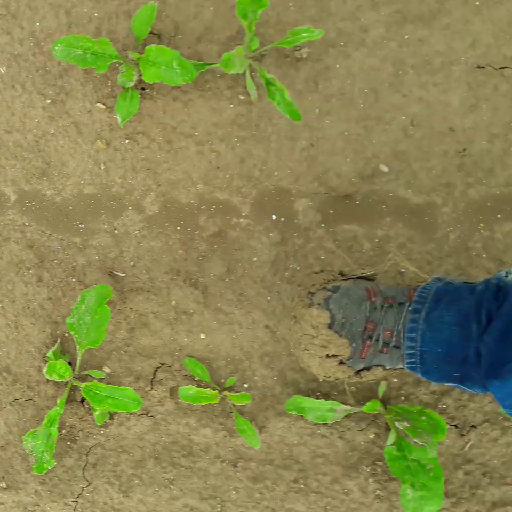sugarbeet: (20, 282, 145, 478), (283, 378, 447, 512), (47, 1, 197, 129), (184, 1, 326, 125), (176, 355, 262, 452)
